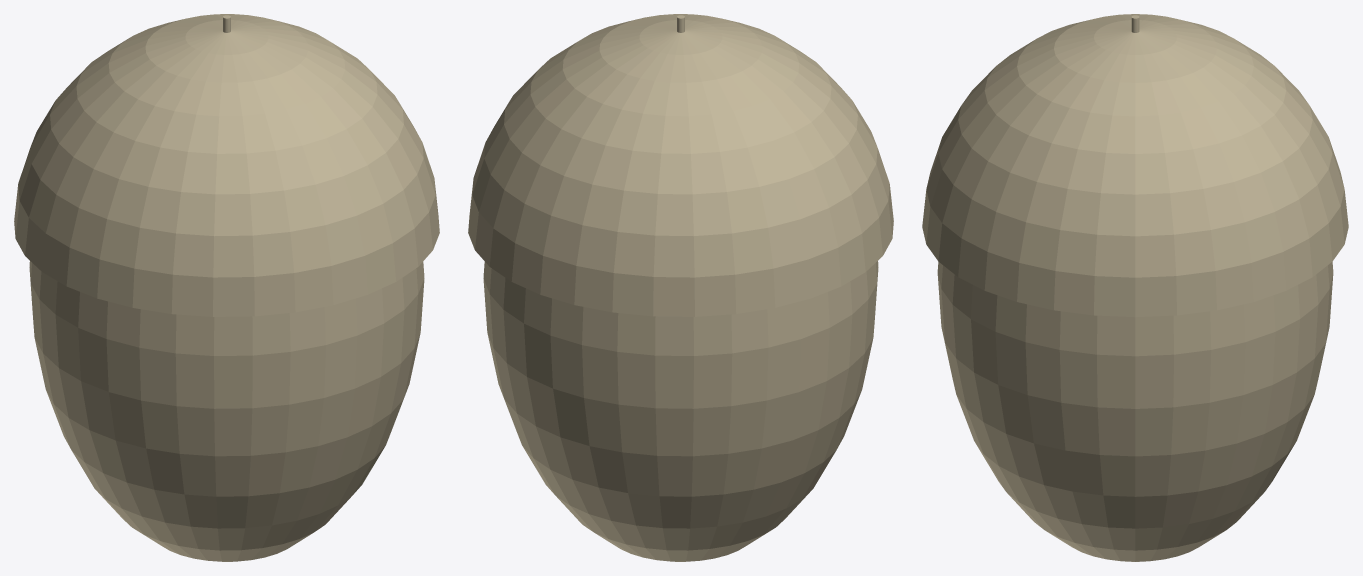
File: AcornGolden.fbx
3 renders of one model, left to right at view 1: azimuth 30°, elevation 25°; view 2: azimuth 150°, elevation 25°; view 3: azimuth 270°, elevation 25°, orthographic.
Parts seen in each view (by area): view 1: Sphere; view 2: Sphere; view 3: Sphere.
Boxes of the visible parts, box(x1,y1,x2,y2) form: Sphere: box(14, 14, 439, 561); Sphere: box(468, 14, 893, 561); Sphere: box(922, 14, 1348, 561).
Size of the model in its own units: 277 by 382 by 277.
